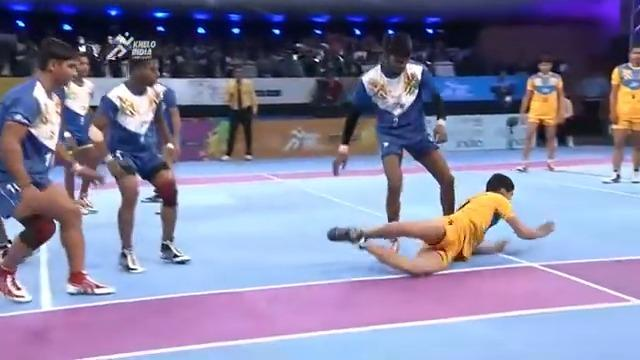Player: (0, 36, 116, 302), (331, 30, 456, 253), (90, 43, 191, 273), (514, 53, 565, 172), (600, 45, 639, 184)
Raider: (326, 173, 555, 277)
